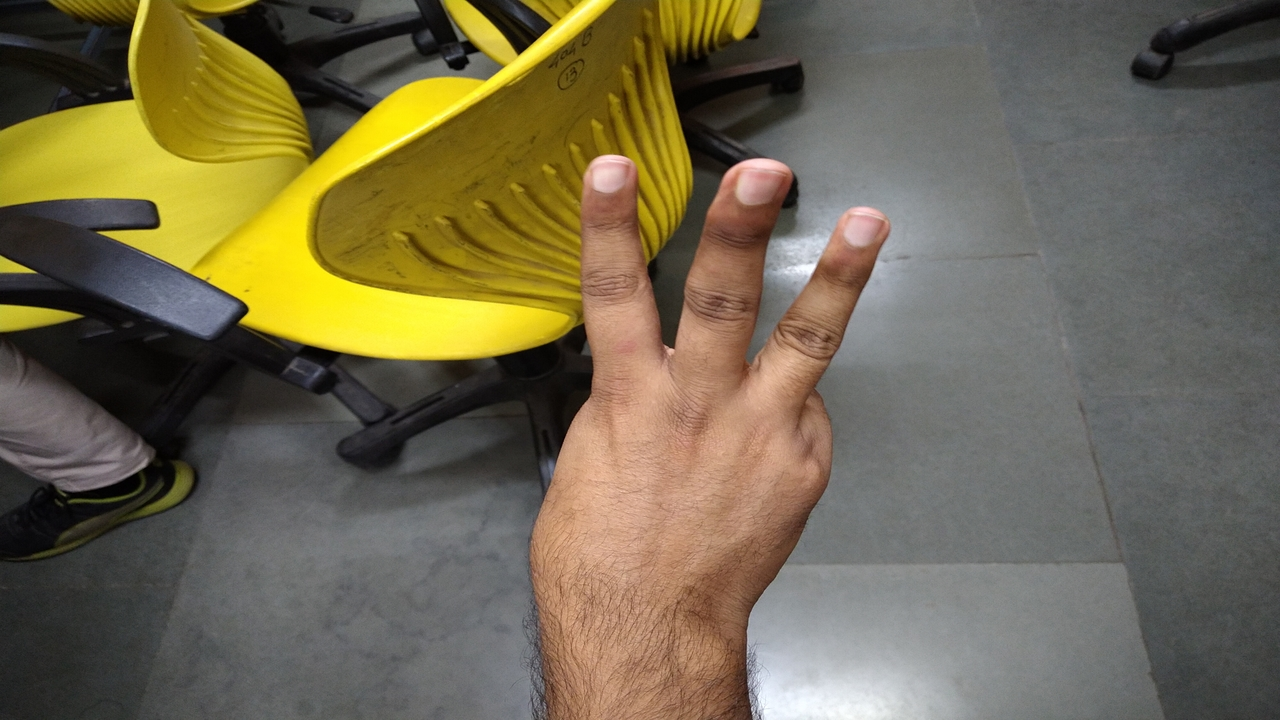fingertip: (712, 152, 802, 220), (574, 144, 638, 210), (832, 198, 898, 256)
